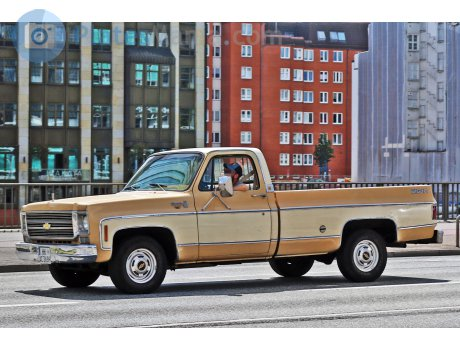License Plates: (40, 245, 51, 256)
